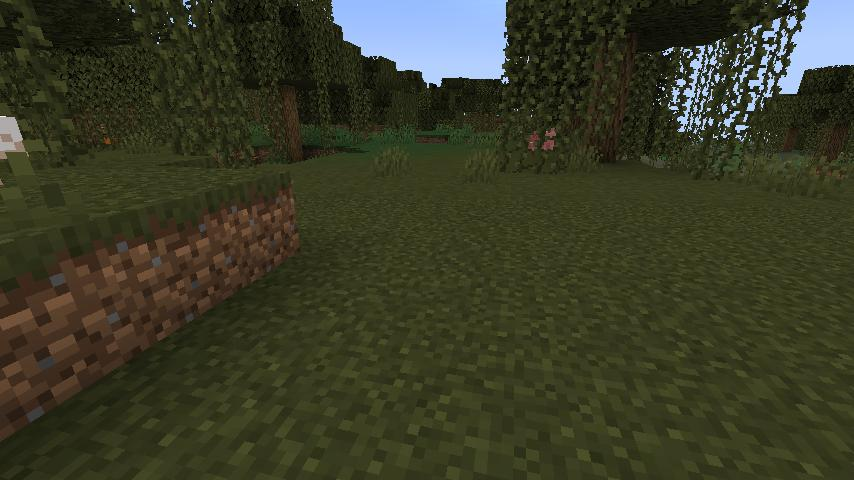pig: (528, 129, 558, 152)
